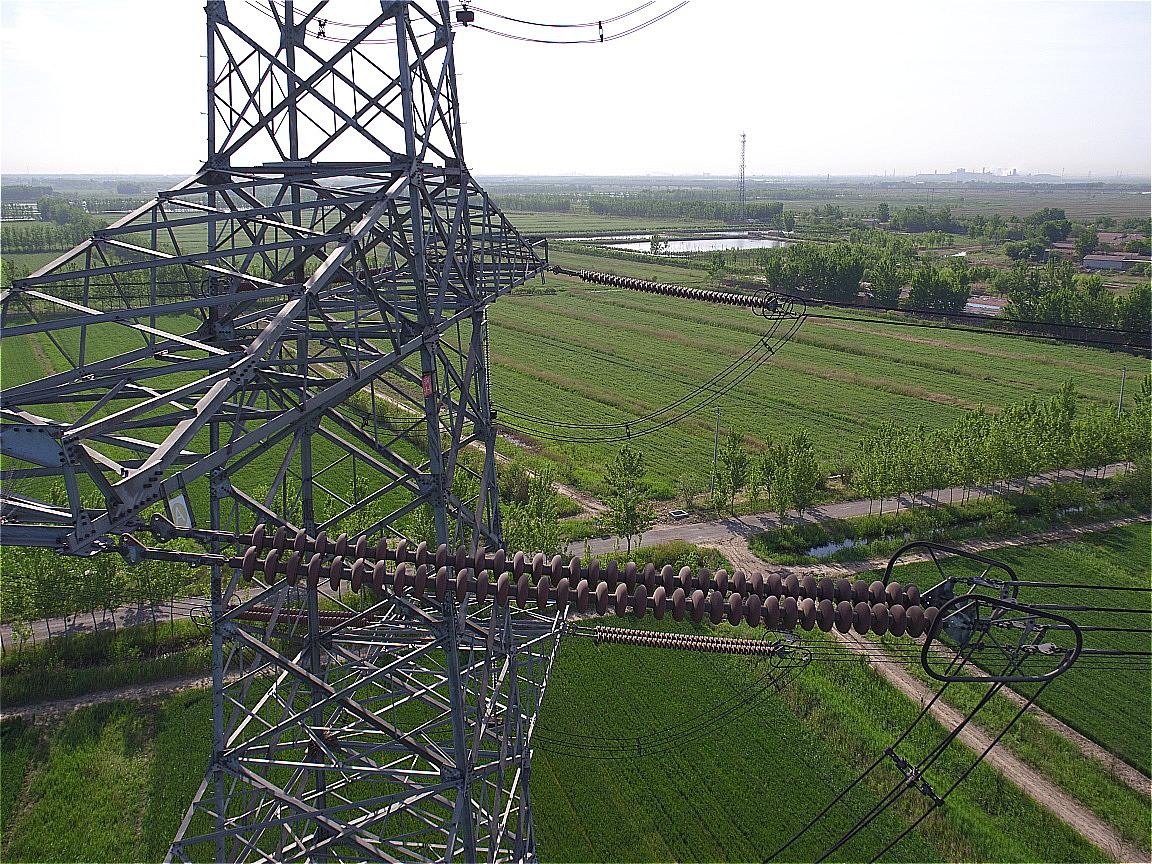insultor1: (243, 523, 945, 640)
insultor2: (576, 268, 772, 308)
